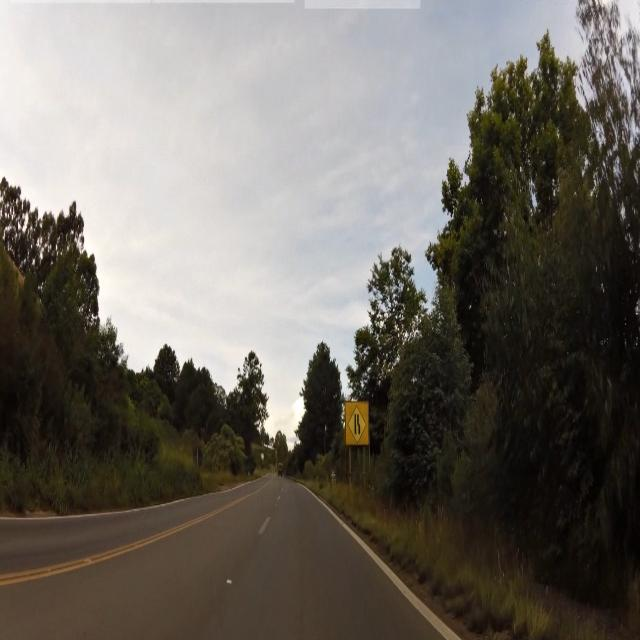A-21c: (345, 398, 371, 447)
